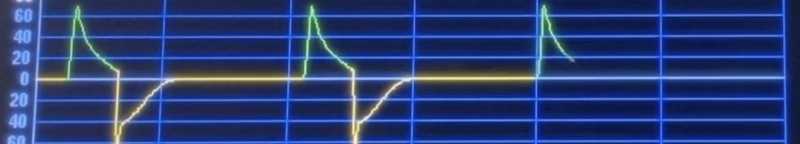normal_flow: (65, 3, 422, 144)
